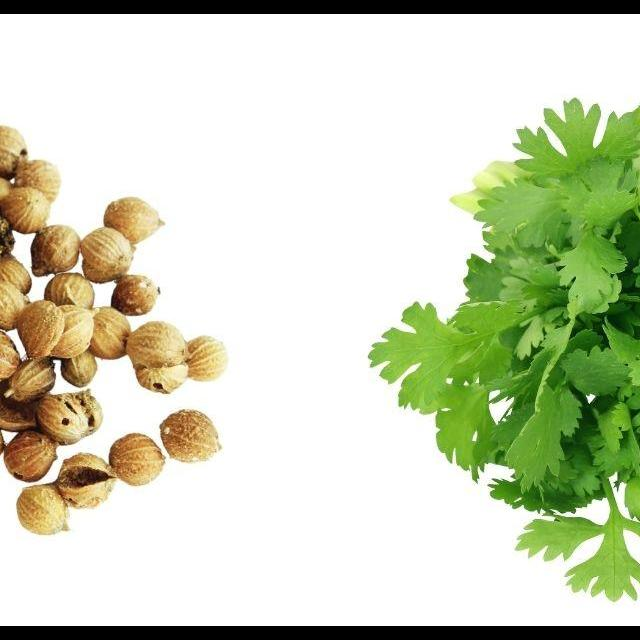cilantro: (367, 37, 640, 601)
